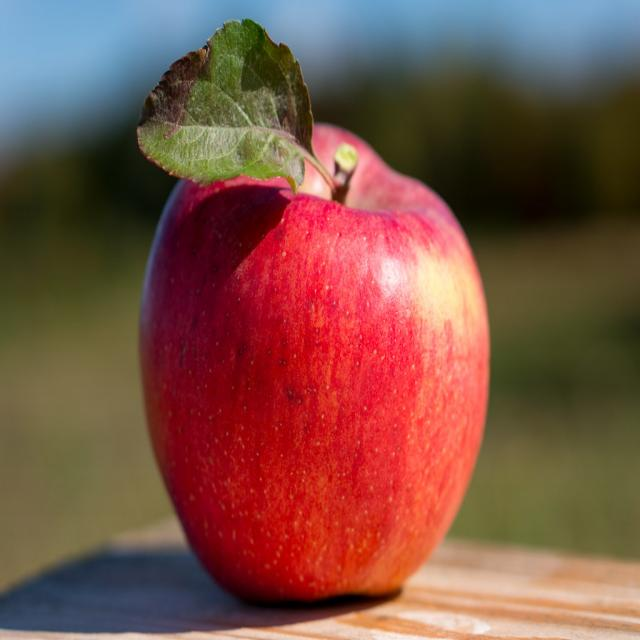Apple: (140, 121, 494, 607)
